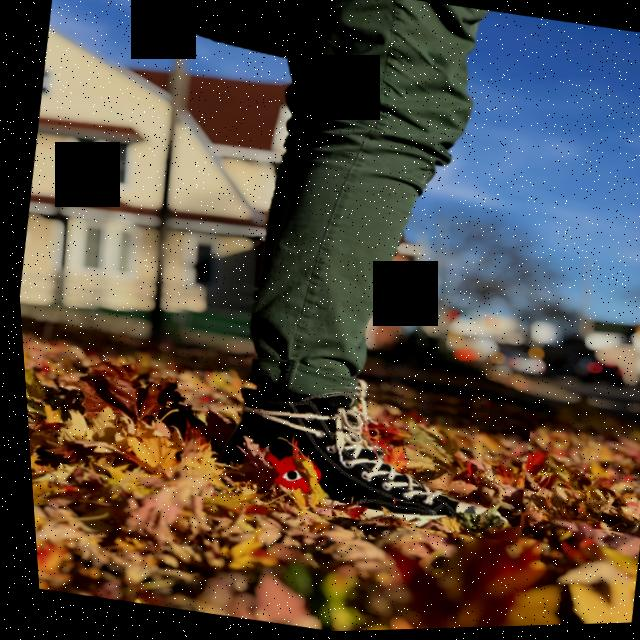shoe: (169, 354, 533, 553)
